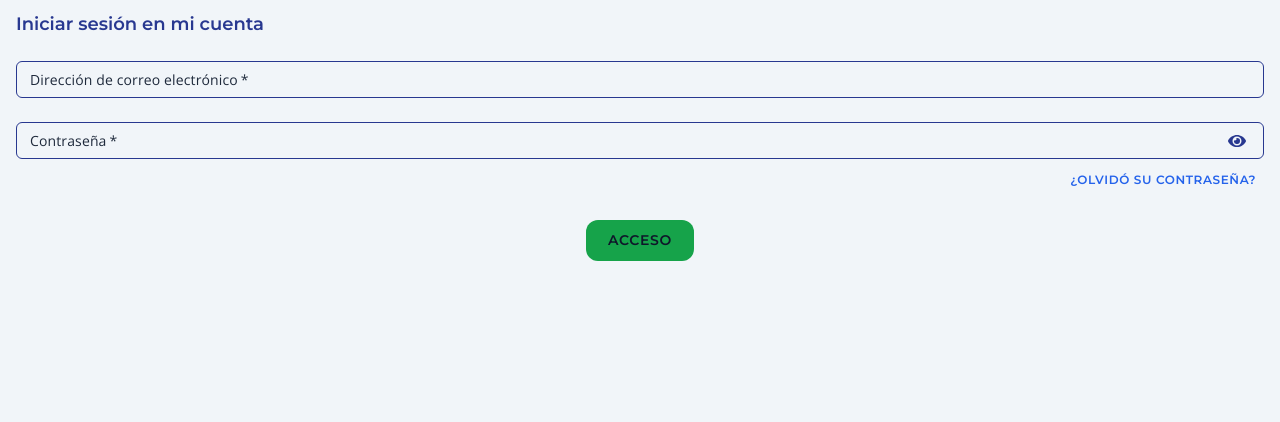
it: Login — cuando falla, lo dice en castellano › con auth/invalid-credential muestra: Correo o contraseña incorrectos
Type "aida@ferrequipos.com" into the field labelled "Dirección de correo electrónico *" at (640, 80), box [16,61,1264,98]
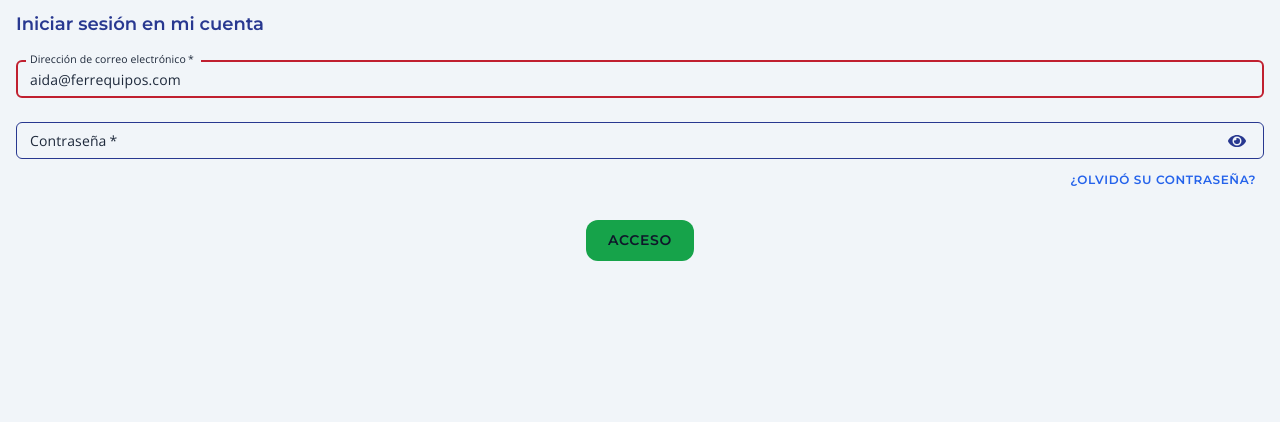
Type "secreta123" into the password field labelled "Contraseña *" at (620, 141), box [16,122,1224,159]
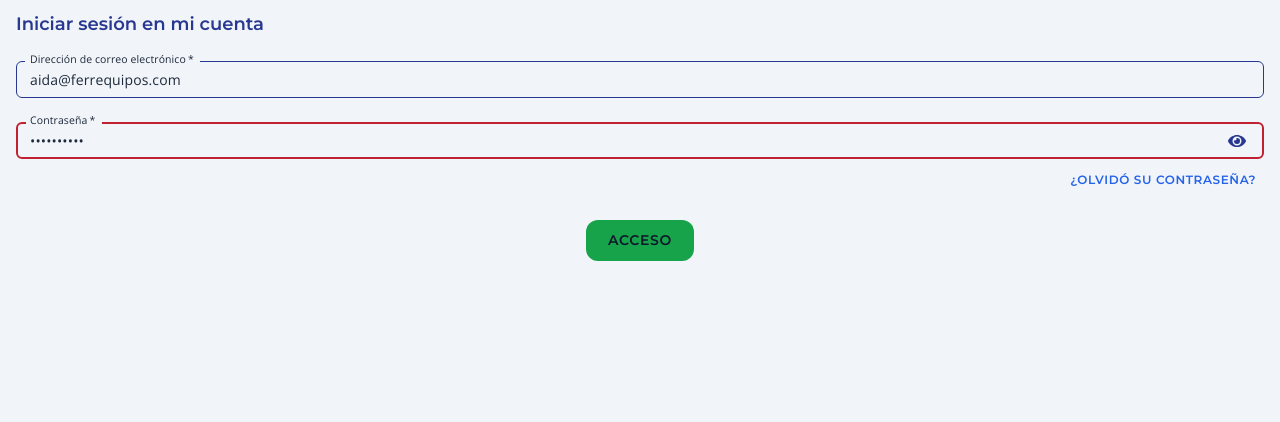
Click the button "ACCESO" at (640, 240), box [586,220,694,261]
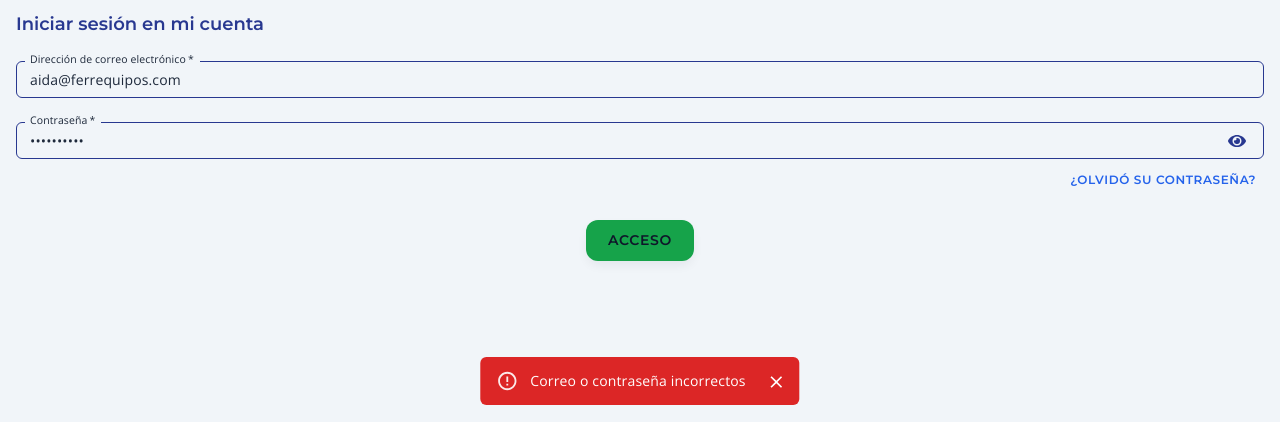
Now the text "Correo o contraseña incorrectos" is shown, box [530,371,746,390]
